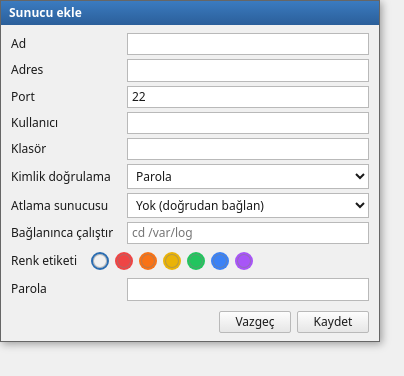
it: the browse button fills the key file path from the file picker
Select "Anahtar dosyası" in the dropdown labelled "Kimlik doğrulama": (248, 177) [127, 164, 369, 189]
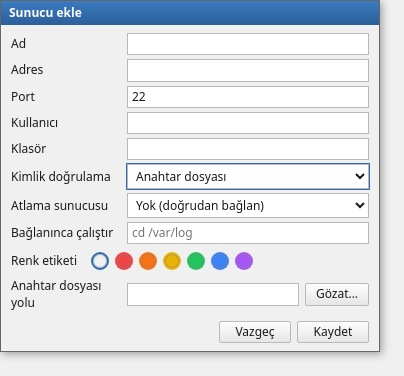
Click the button "Gözat…": (337, 294) [305, 283, 369, 306]
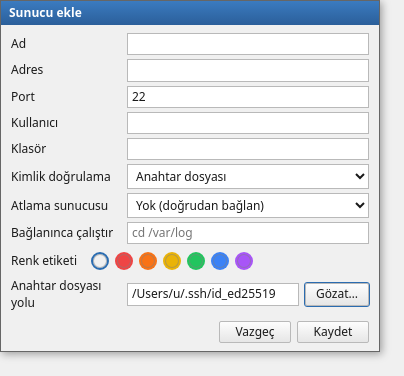
Check: the field labelled "Anahtar dosyası yolu" holds "/Users/u/.ssh/id_ed25519", box [127, 283, 299, 306]
